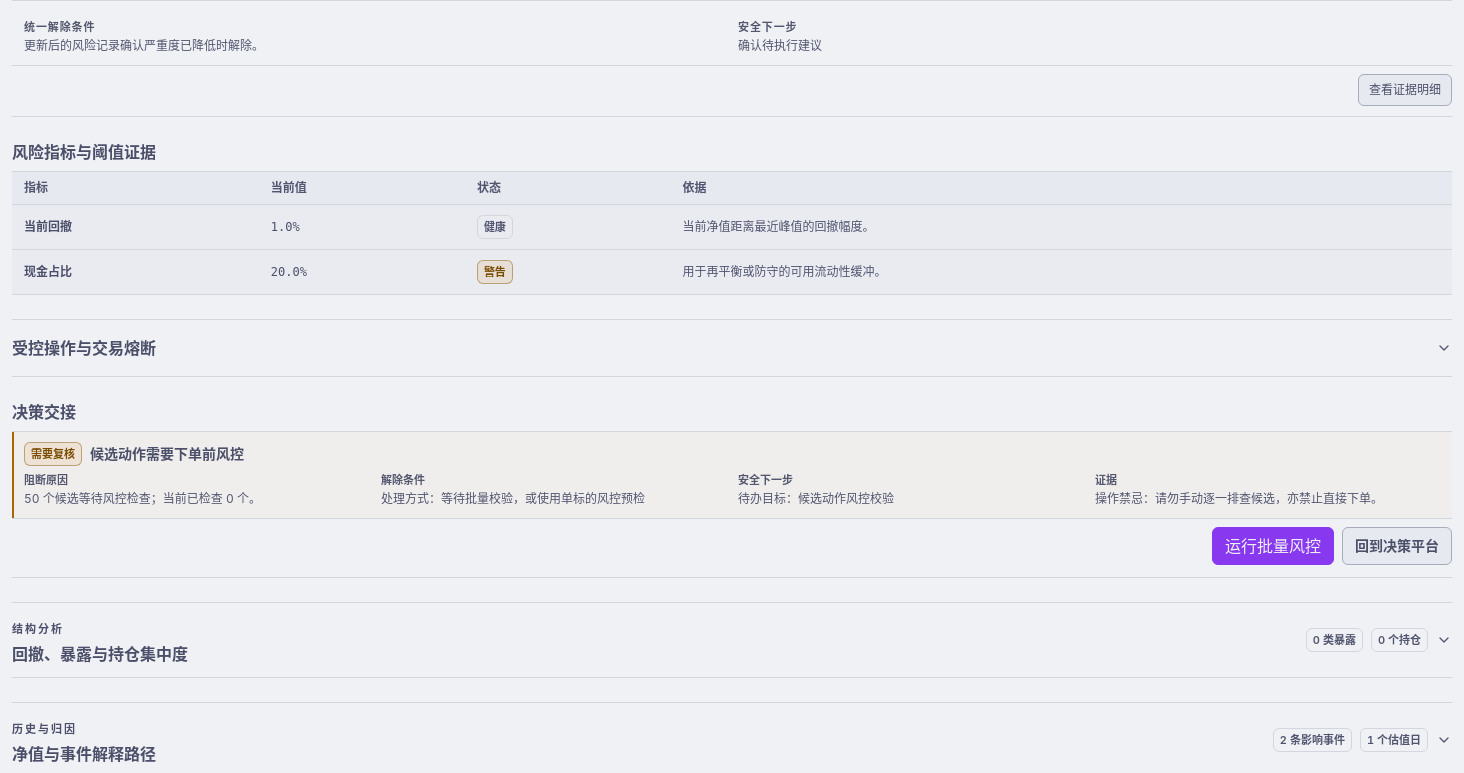
Test: keeps the last persisted risk projection visible when a post-run refresh fails
(page scrolled)
What coordinates should you click on to do the following:
click the button "运行批量风控"
I would click on:
 (1273, 546)
Its box is [1212,527,1334,565].
(page scrolled)
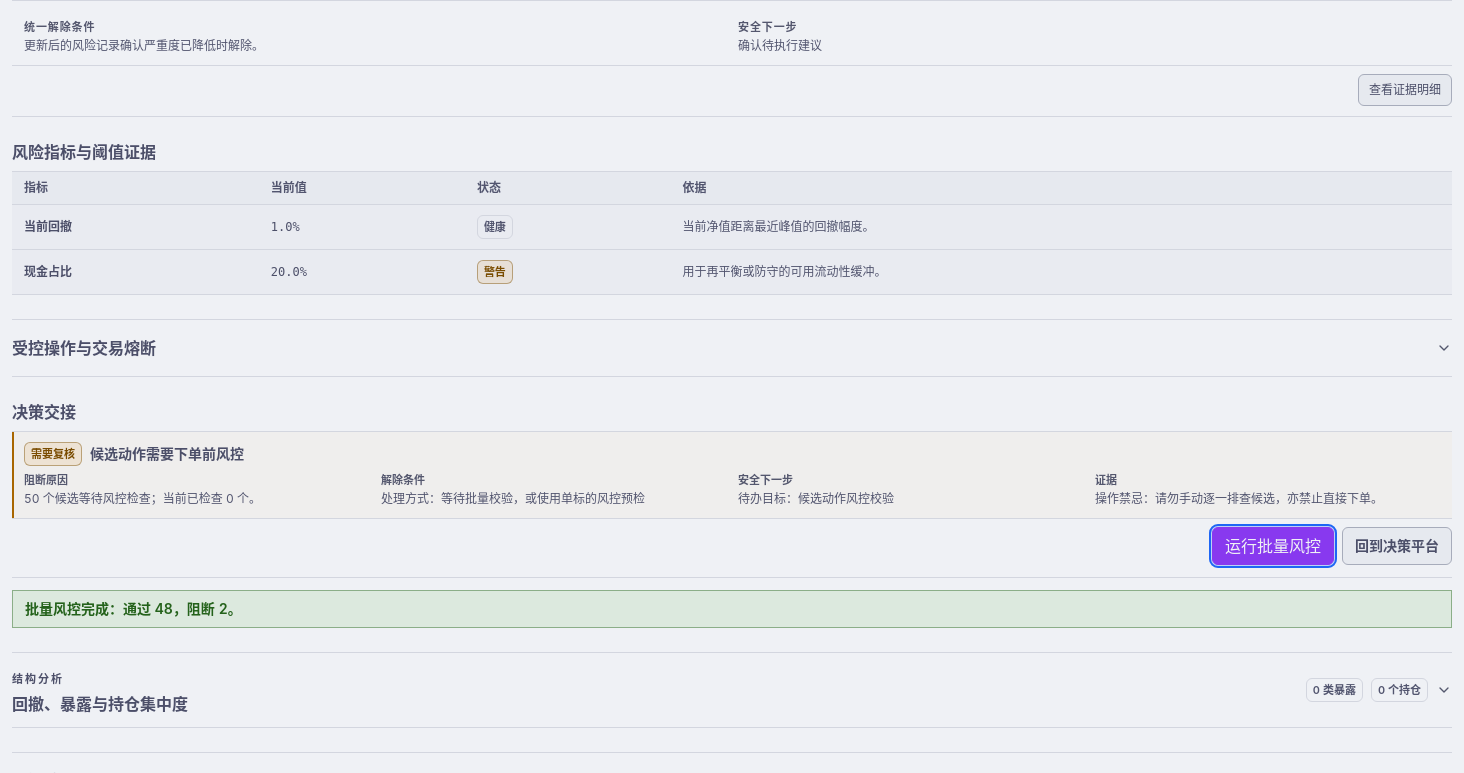
Check: the column heading "现金占比" is shown, box [12,250,259,294]
Check: the text "批量风控完成：通过 48，阻断 2。" is shown, box [12,590,1452,628]
